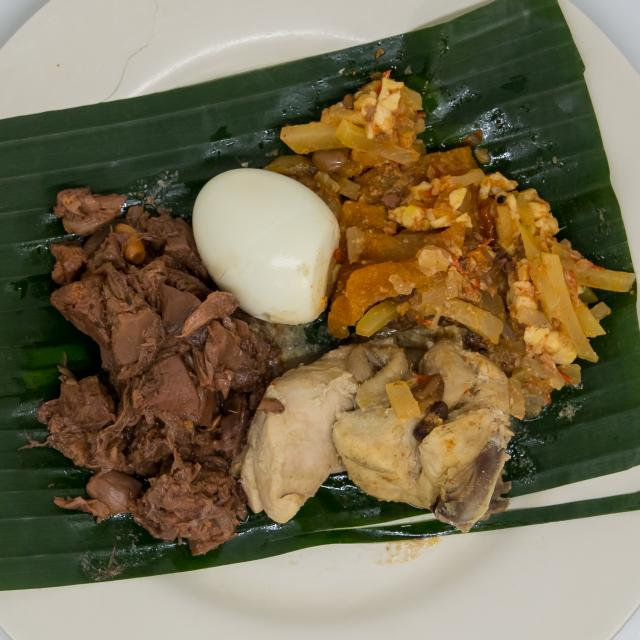Gudeg-Jogja: (17, 63, 628, 566)
